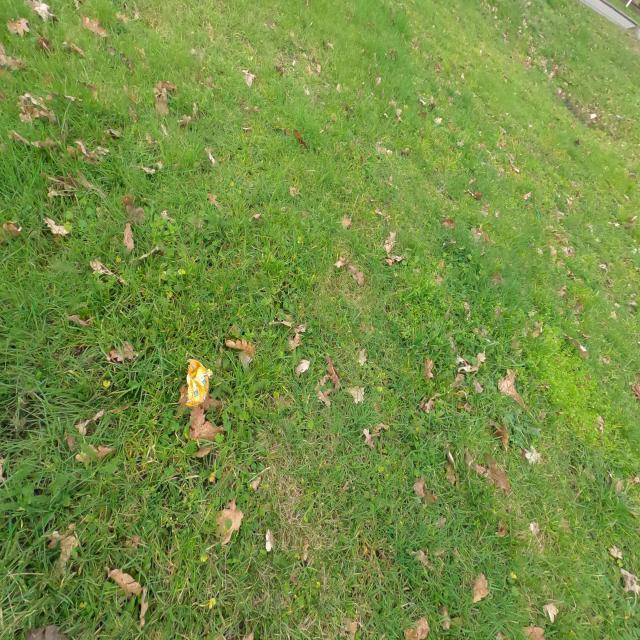Plastic: (184, 357, 214, 408)
